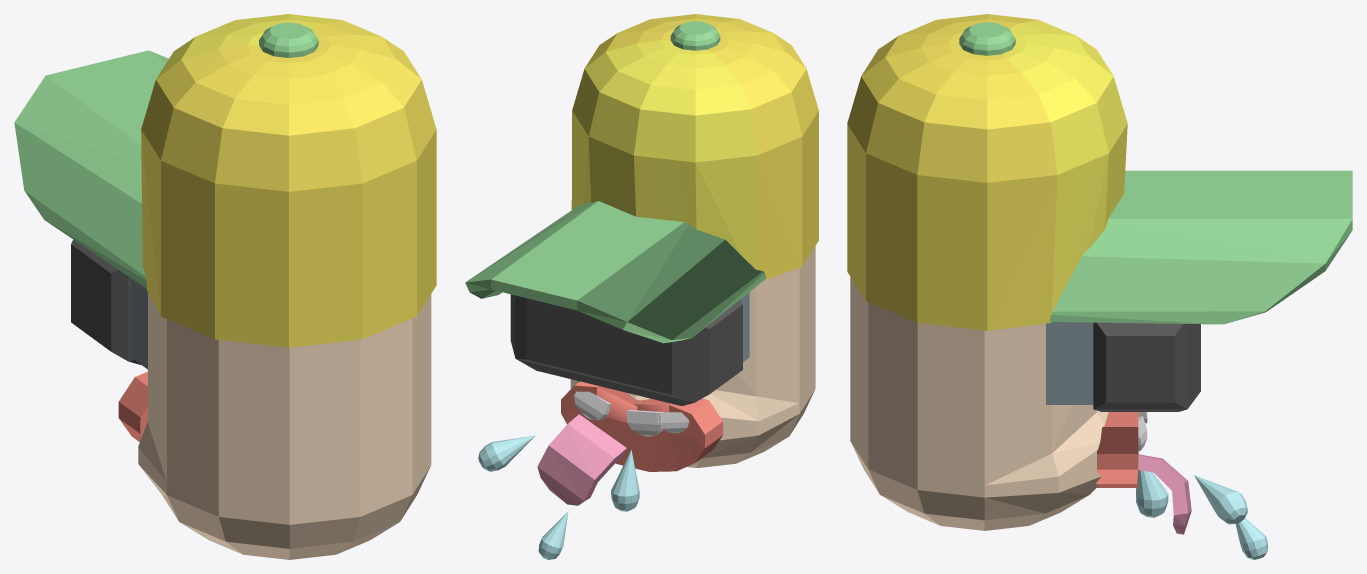
The model's file is player1.fbx.
The picture shows the model from 3 angles, left to right: view 1: azimuth 30°, elevation 25°; view 2: azimuth 150°, elevation 25°; view 3: azimuth 270°, elevation 25°; orthographic projection. The views are drawn at different scales.
Visible parts, largest first — view 1: mesh2092651062.001, mesh2125370239, mesh729800656.001, mesh1512580318.001; view 2: mesh2092651062.001, mesh1512580318.001, mesh729800656.001, mesh2125370239; view 3: mesh2092651062.001, mesh2125370239, mesh729800656.001, mesh1512580318.001.
Boxes of the visible parts, x1,y1,x2,y2 form: mesh2092651062.001: (14, 14, 436, 347); mesh2125370239: (138, 293, 431, 559); mesh729800656.001: (71, 239, 147, 369); mesh1512580318.001: (118, 371, 147, 441); mesh2092651062.001: (465, 14, 818, 343); mesh1512580318.001: (478, 381, 723, 559); mesh729800656.001: (510, 292, 749, 405); mesh2125370239: (570, 246, 815, 467); mesh2092651062.001: (847, 14, 1352, 330); mesh2125370239: (850, 277, 1108, 530); mesh729800656.001: (1046, 322, 1200, 411); mesh1512580318.001: (1096, 412, 1267, 559).
Bounding box in the file's own units: 36.44 × 73.28 × 65.4.
